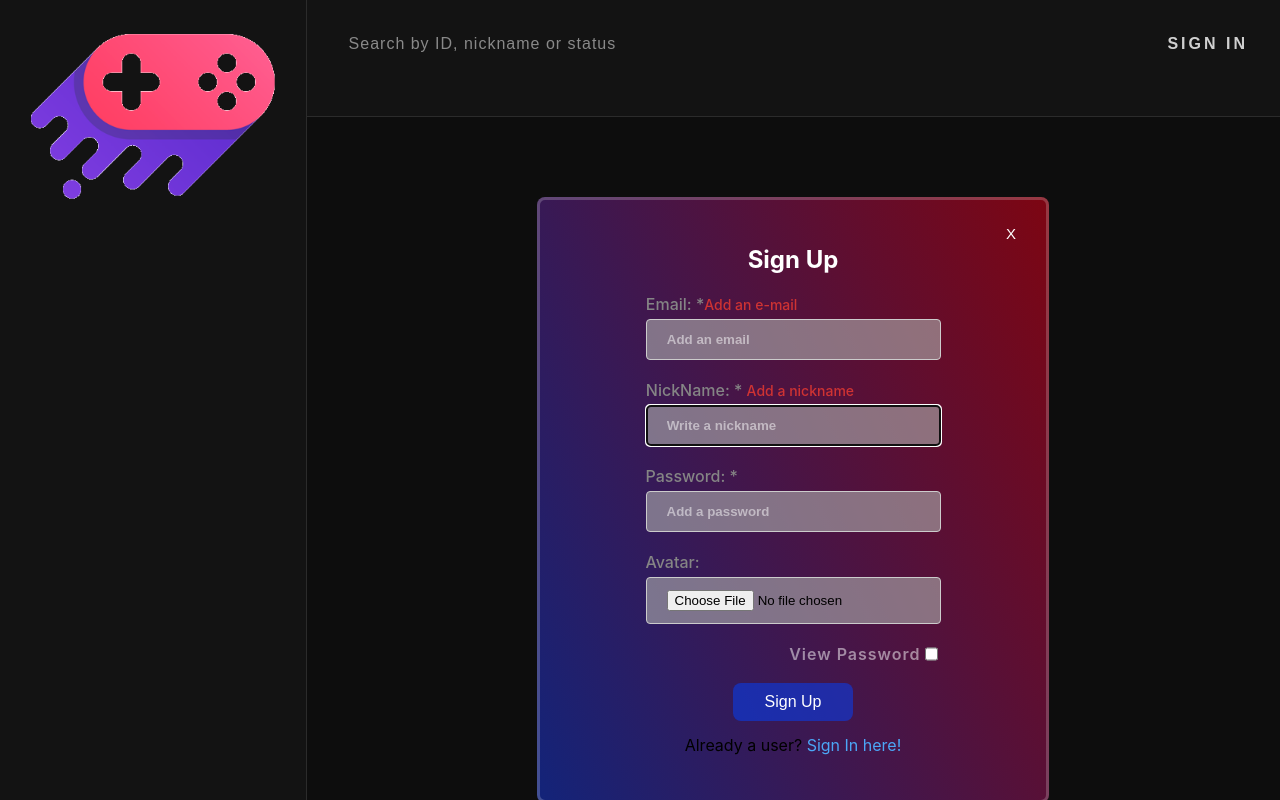
Test case: Render the Login › Nickname input: Check length's nickname input
This screenshot has width=1280, height=800.
In the field named "nickname": (794, 426) 646,405 -> 941,446, type "testb"
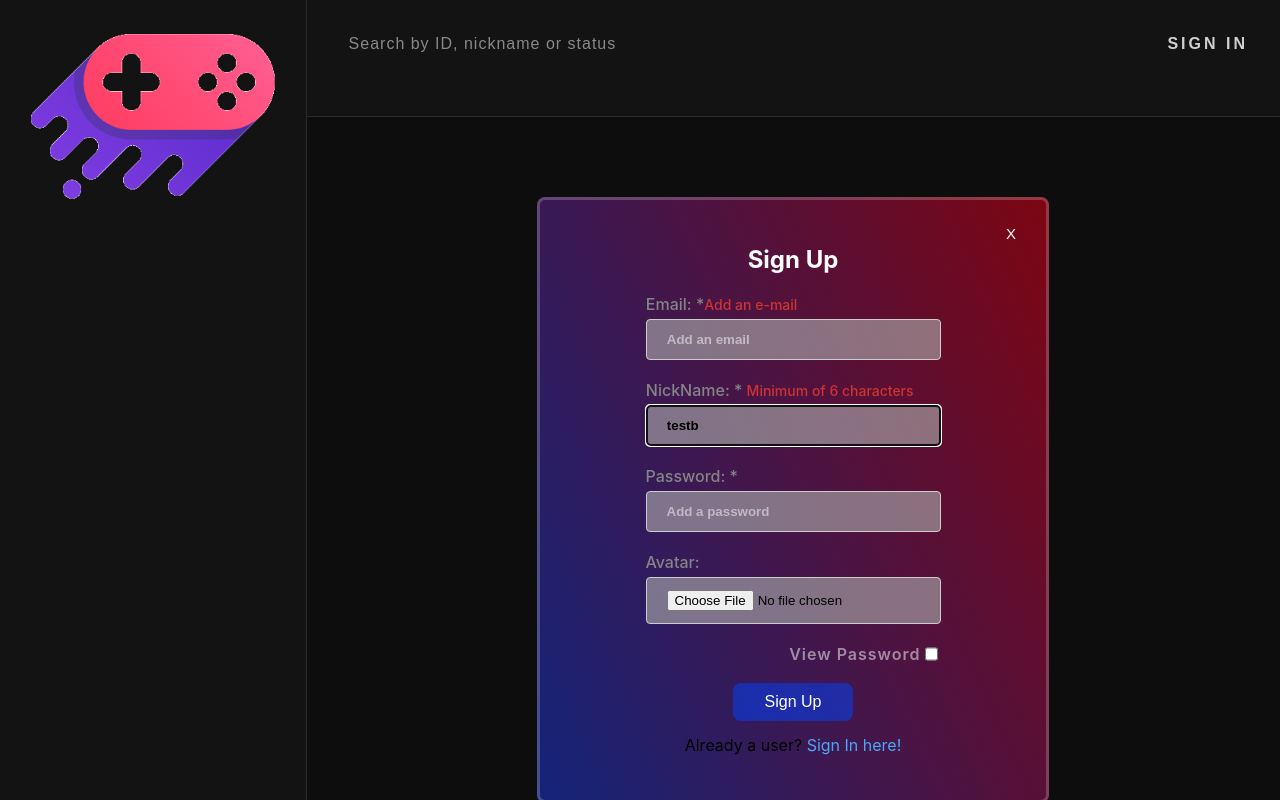
Expected: the text "Minimum of 6 characters" is shown, 747,382 -> 914,399
